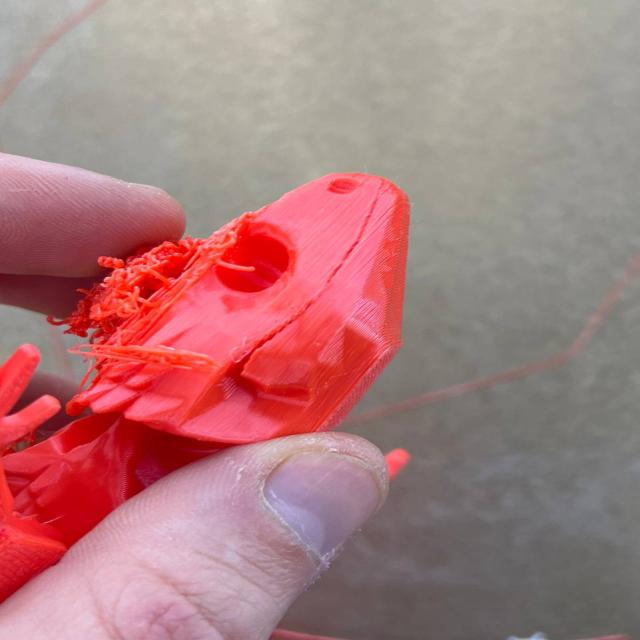Spaghetti: (45, 203, 233, 381)
